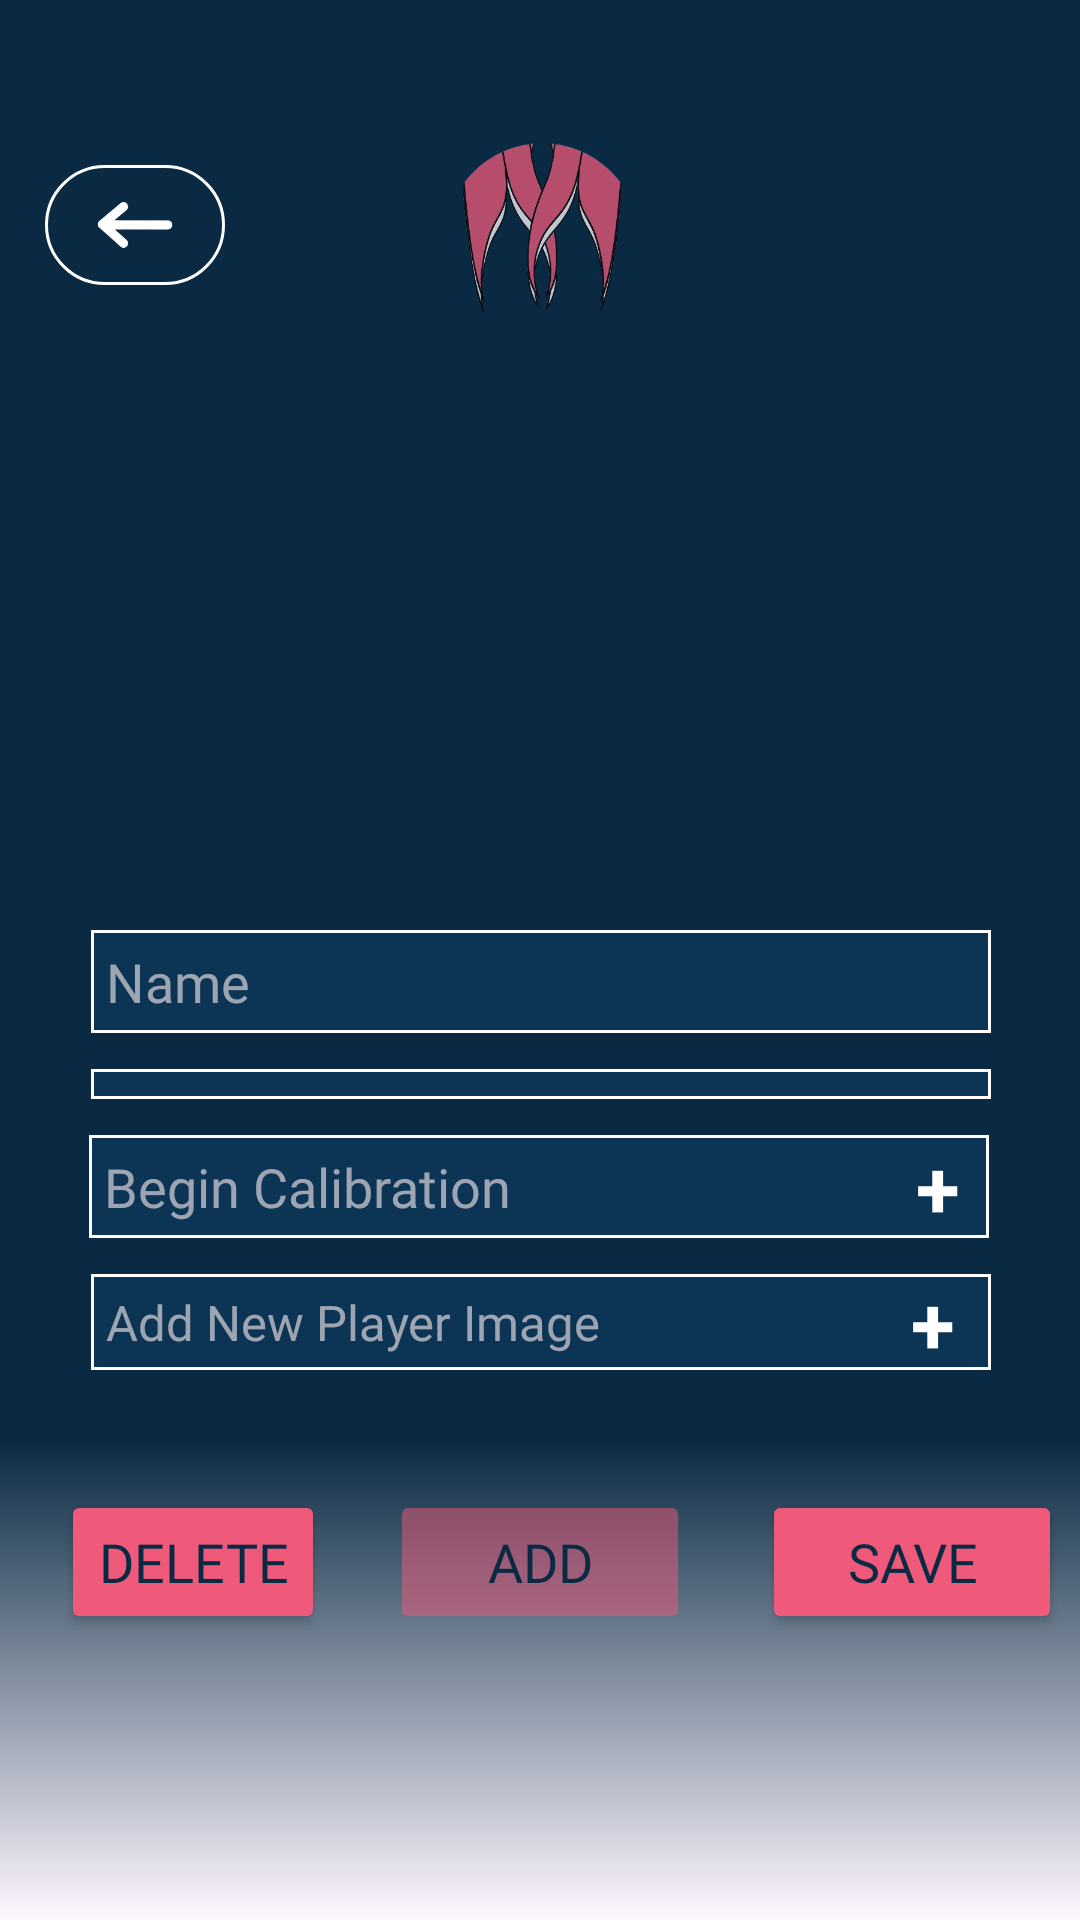

Locate icon controls on the screen. Image size 1080x1920, boxes as (x1, y1, x2, y2).
arrow: (45, 165, 225, 285)
